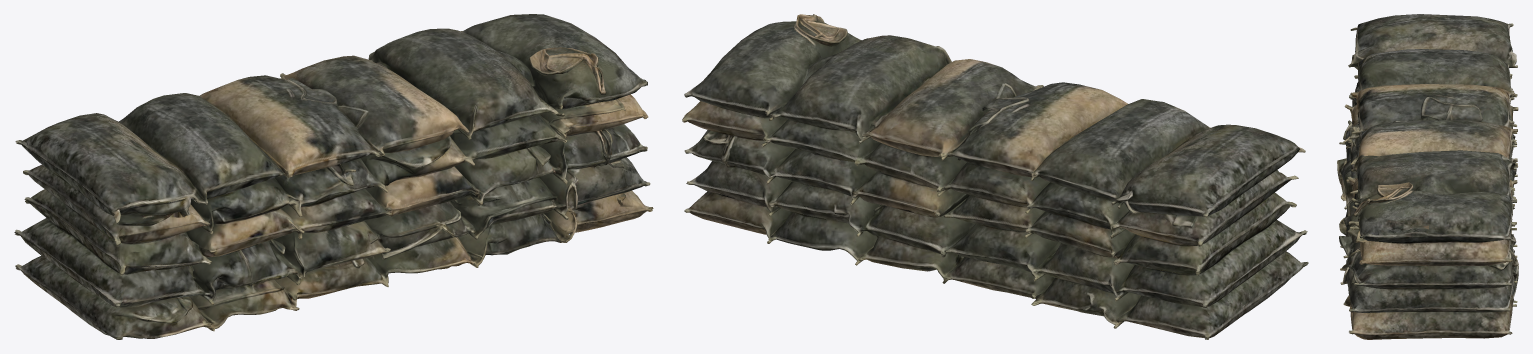
File: sandbag.glb
The picture shows the model from 3 angles, left to right: view 1: azimuth 30°, elevation 25°; view 2: azimuth 150°, elevation 25°; view 3: azimuth 270°, elevation 25°; orthographic projection. The views are drawn at different scales.
Bounding box in the file's own units: 0.9792 × 0.287 × 0.3553.
1 material, 1 textured.
